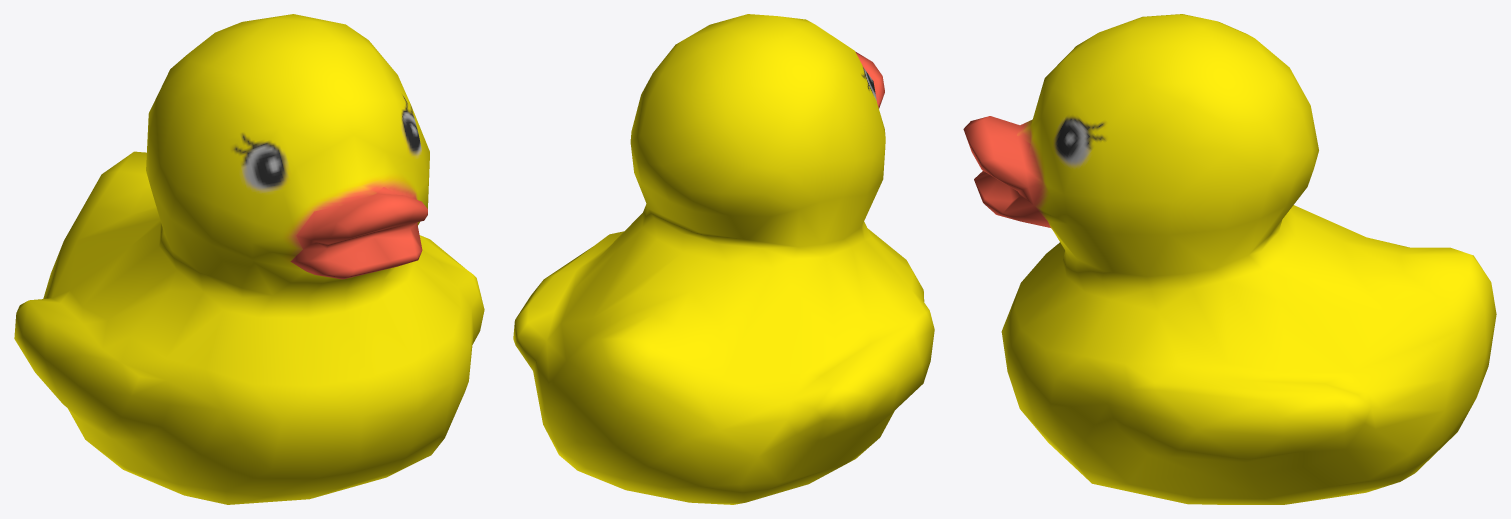
Rendered from Duck.fbx.
The picture shows the model from 3 angles, left to right: view 1: azimuth 30°, elevation 25°; view 2: azimuth 150°, elevation 25°; view 3: azimuth 270°, elevation 25°; orthographic projection. The views are drawn at different scales.
Parts seen in each view (by area): view 1: Duck; view 2: Duck; view 3: Duck.
Part boxes in pixels (x1,y1,x2,y2): Duck: [14, 14, 484, 504]; Duck: [513, 14, 934, 504]; Duck: [963, 14, 1496, 504].
Size of the model in its own units: 11.75 by 12.41 by 14.04.
Materials: 1 (1 with a texture image).
